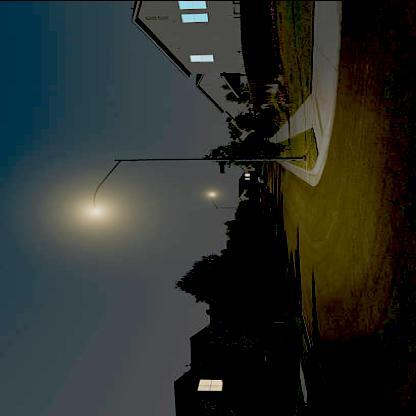on: (33, 159, 159, 242), (180, 145, 239, 231)
